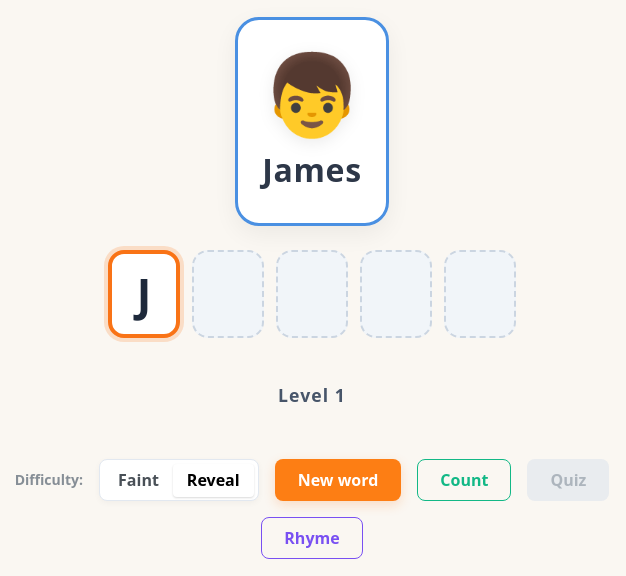
Test: TypingGame › resets and moves to the next word when New word is selected
Click the button "New word".
click(338, 480)  # box [275,459,401,501]
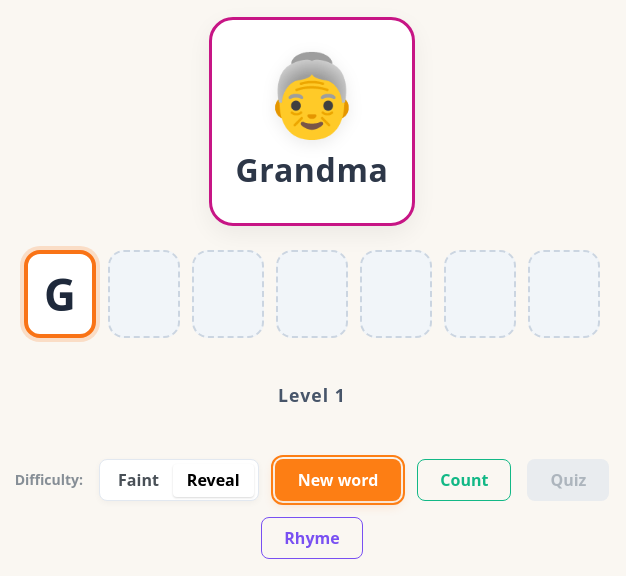
Result: the element named "prompt for grandma" is shown at [208,17,415,226]
